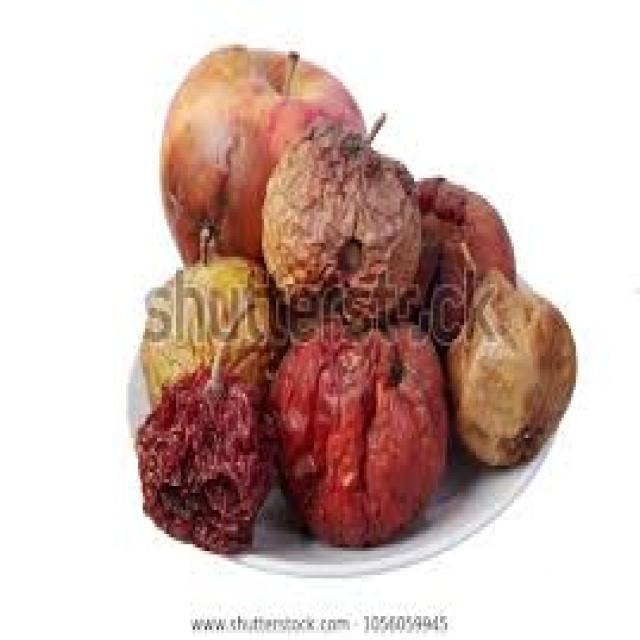organic waste: (157, 41, 362, 274), (271, 308, 445, 544), (133, 298, 276, 554), (257, 110, 419, 322), (442, 263, 574, 469), (140, 226, 281, 407), (409, 171, 512, 336)
